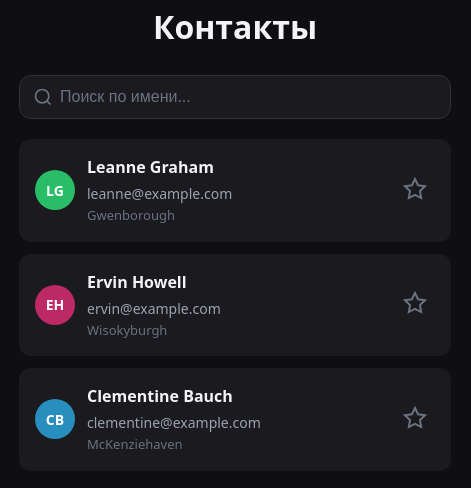
Test: App › фильтрует контакты по поиску
Expected: the heading "Leanne Graham" is shown, [87,156,214,178]
Type "Ervin" into the field with placeholder "Поиск по имени...".
click(235, 97); type("Ervin")  # box [19,75,451,119]
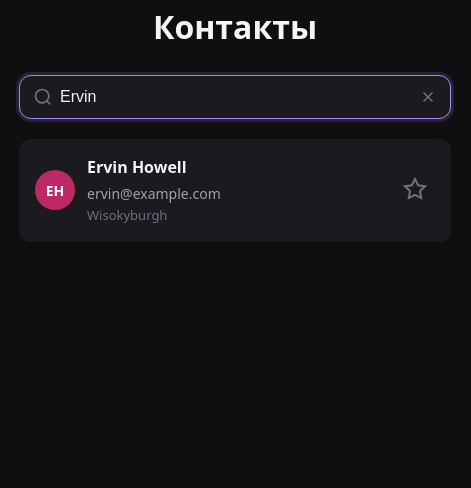
Expected: the heading "Ervin Howell" is shown, [87,156,187,178]
Now the heading "Leanne Graham" is gone
Now the heading "Clementine Bauch" is gone
